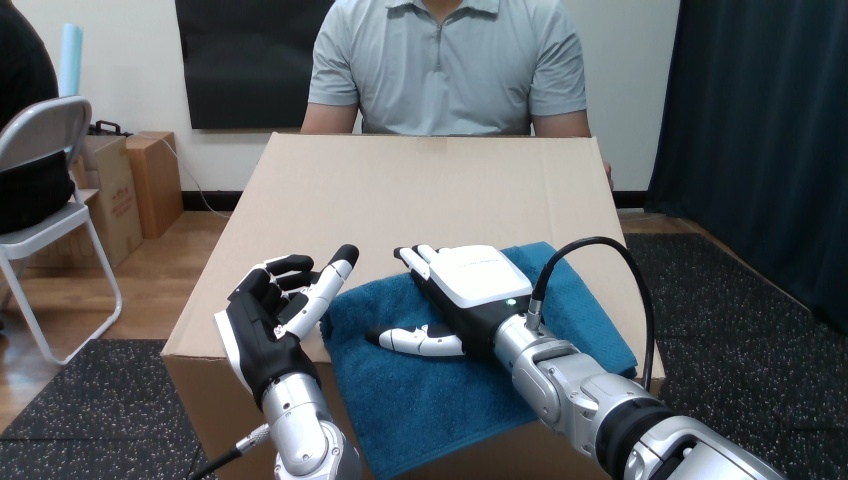left robot hand: (366, 236, 782, 479), (189, 244, 361, 479), (538, 243, 647, 384)
